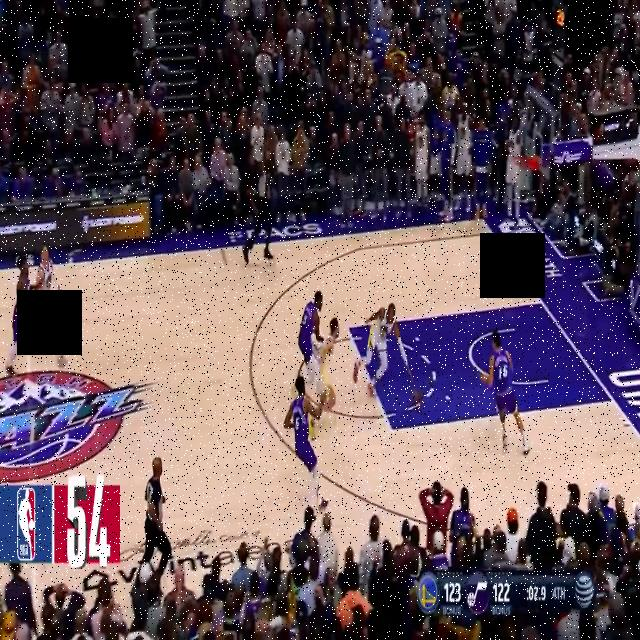Middle: (17, 186, 37, 350)
Right Bottom Left Paint: (382, 413, 400, 448)
Right Bottom Right Paint: (602, 380, 625, 422)
Right Corner: (468, 195, 495, 241)
Right Tick: (214, 227, 231, 271)
Right Top Left Paint: (338, 308, 359, 346)
Right Top Right Paint: (530, 282, 554, 322)
